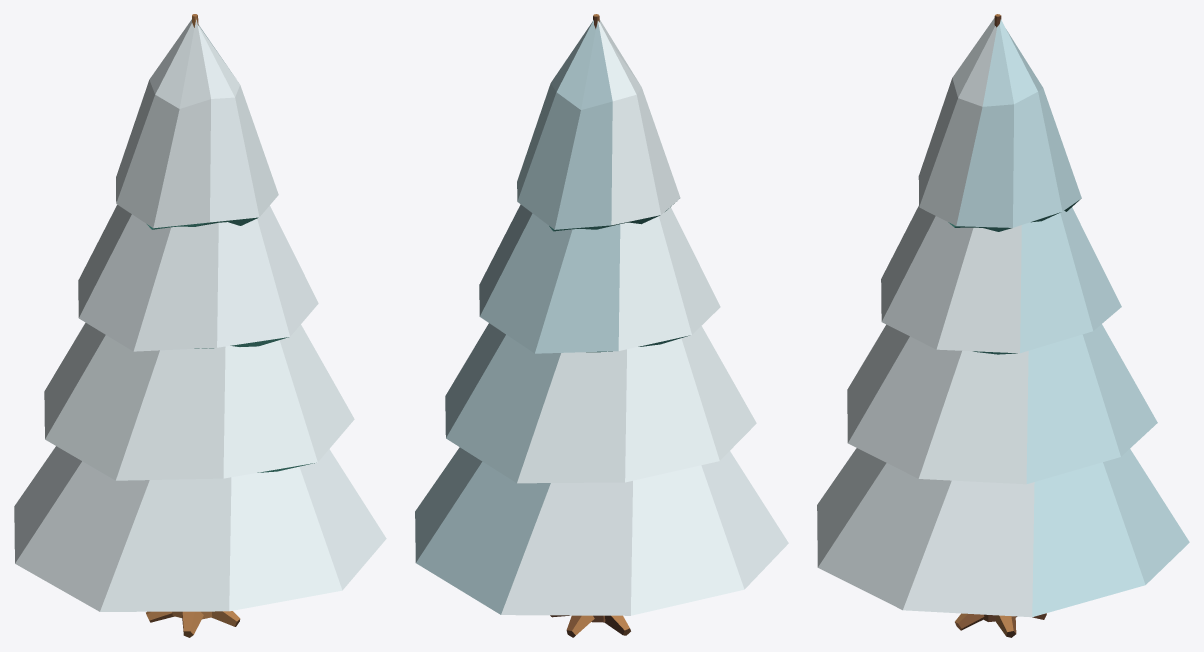
The model's file is PinheiroNevado.fbx.
3 views of the same model, side by side, from view 1: azimuth 30°, elevation 25°; view 2: azimuth 150°, elevation 25°; view 3: azimuth 270°, elevation 25° (orthographic).
Parts seen in each view (by area): view 1: PinheiroNevado_Folha_7, PinheiroNevado_Solido_3, PinheiroNevado_Folha_5; view 2: PinheiroNevado_Folha_7, PinheiroNevado_Folha_6; view 3: PinheiroNevado_Folha_7, PinheiroNevado_Folha_6.
Boxes of the visible parts, x1,y1,x2,y2 form: PinheiroNevado_Folha_7: (14, 19, 386, 611); PinheiroNevado_Solido_3: (146, 14, 240, 637); PinheiroNevado_Folha_5: (147, 217, 314, 472); PinheiroNevado_Folha_7: (501, 19, 788, 615); PinheiroNevado_Folha_6: (415, 20, 620, 614); PinheiroNevado_Folha_7: (817, 18, 1034, 617); PinheiroNevado_Folha_6: (956, 19, 1189, 616).
Bounding box in the file's own units: 945 × 1667 × 932.
